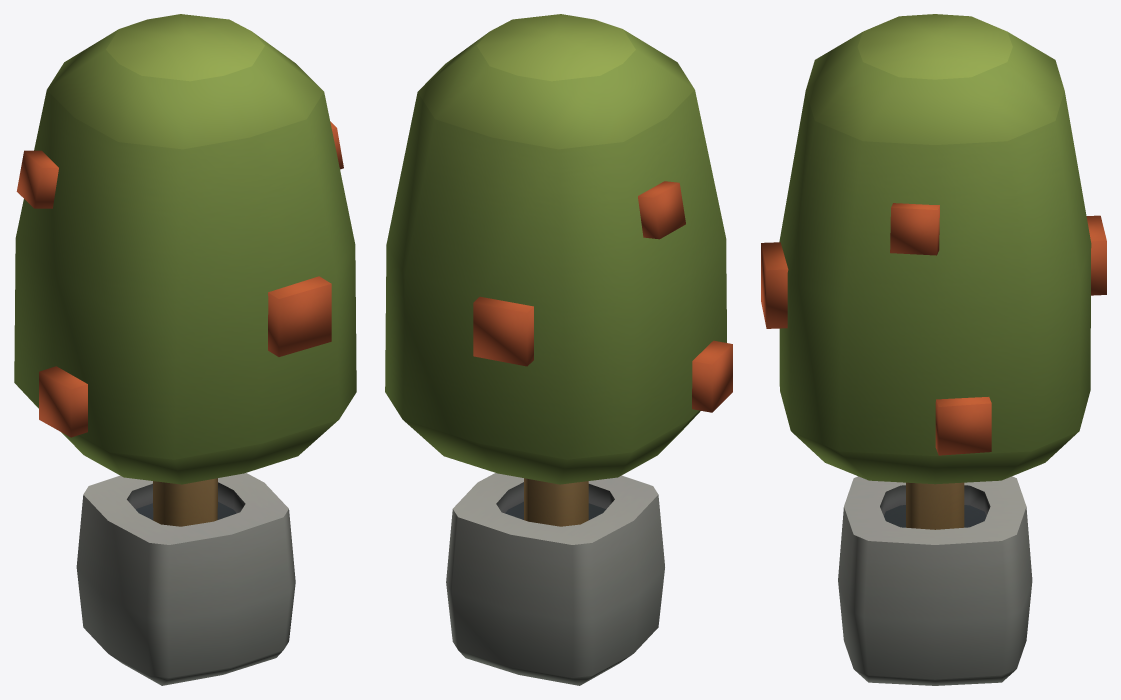
File: bush_plant_big_tall_stem_pot.fbx
3 renders of one model, left to right at view 1: azimuth 30°, elevation 25°; view 2: azimuth 150°, elevation 25°; view 3: azimuth 270°, elevation 25°, orthographic.
Visible parts, largest first — view 1: bush_plant_big_tall_stem_pot; view 2: bush_plant_big_tall_stem_pot; view 3: bush_plant_big_tall_stem_pot.
Boxes of the visible parts, box(x1,y1,x2,y2) form: bush_plant_big_tall_stem_pot: box(14, 14, 356, 685); bush_plant_big_tall_stem_pot: box(385, 14, 732, 685); bush_plant_big_tall_stem_pot: box(761, 14, 1106, 685).
Bounding box in the file's own units: 107 × 209 × 106.
